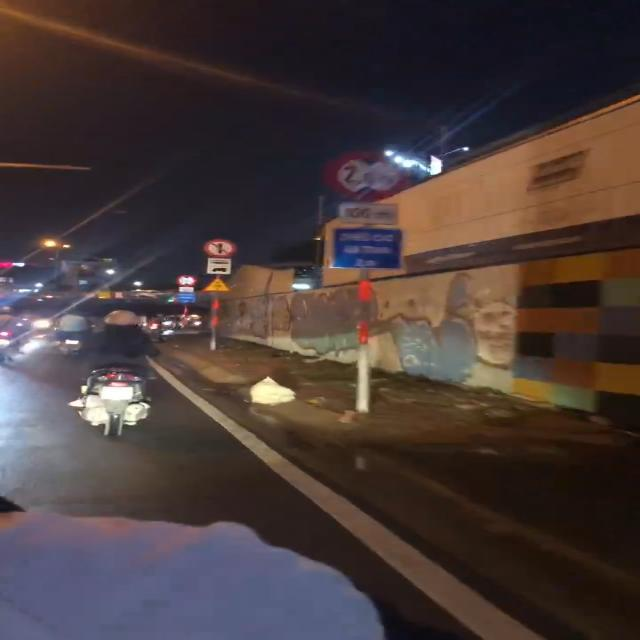Bien bao cam di thang: (201, 236, 238, 258)
